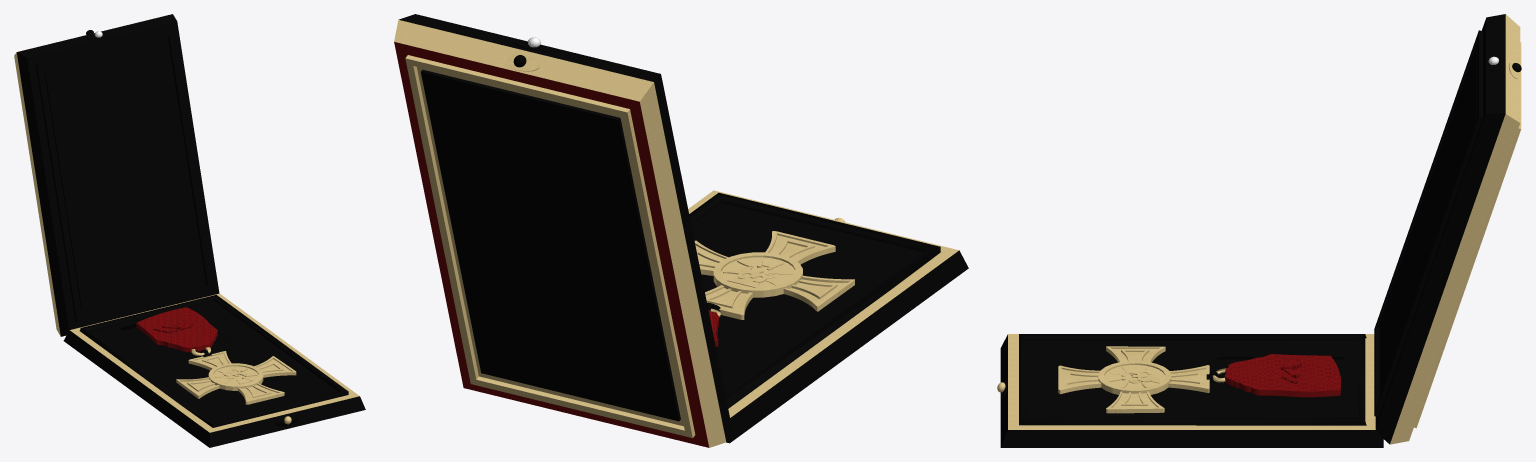
File: Huan_chuong.obj
3 views of the same model, side by side, from view 1: azimuth 30°, elevation 25°; view 2: azimuth 150°, elevation 25°; view 3: azimuth 270°, elevation 25° (orthographic). The views are drawn at different scales.
Parts seen in each view (by area): view 1: 3d-model; view 2: 3d-model; view 3: 3d-model.
Part boxes in pixels (x1,y1,x2,y2): 3d-model: (14, 14, 365, 447); 3d-model: (394, 14, 968, 447); 3d-model: (997, 14, 1521, 447).
Bounding box in the file's own units: 18.38 × 29.14 × 40.72.
9 materials, 4 textured.
